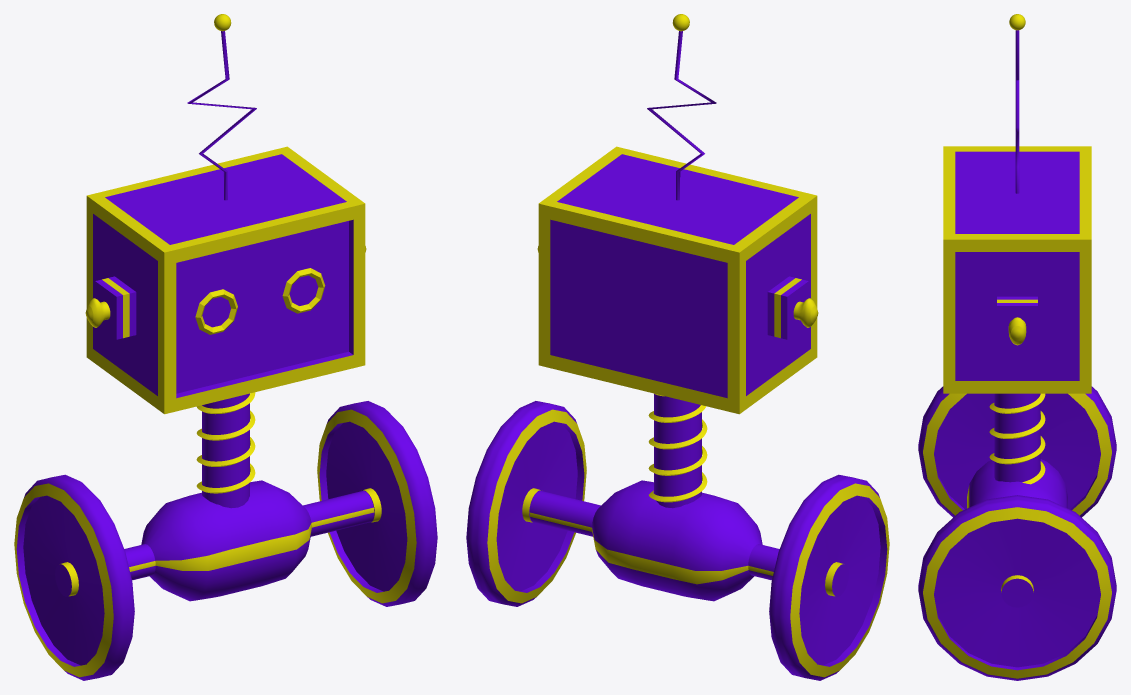
Rendered from Robby.fbx.
The picture shows the model from 3 angles, left to right: view 1: azimuth 30°, elevation 25°; view 2: azimuth 150°, elevation 25°; view 3: azimuth 270°, elevation 25°; orthographic projection. The views are drawn at different scales.
Visible parts, largest first — view 1: pCube1, pCylinder9, pCylinder6, pCylinder8, pCylinder5, pCube3, pHelix1, pCylinder4, pTorus3, pTorus2; view 2: pCube1, pCylinder9, pCylinder6, pCylinder8, pCylinder5, pCube3, pHelix1, pCylinder4; view 3: pCube1, pCylinder8, pCylinder9, pCylinder5, pCylinder6, pCube4, pHelix1, pCylinder4, pCylinder2.
Part boxes in pixels (<box>): pCube1: <box>86,146,365,414</box>; pCylinder9: <box>14,474,134,680</box>; pCylinder6: <box>124,480,374,601</box>; pCylinder8: <box>317,401,437,606</box>; pCylinder5: <box>202,393,249,508</box>; pCube3: <box>95,276,136,339</box>; pHelix1: <box>196,392,255,493</box>; pCylinder4: <box>187,31,256,200</box>; pTorus3: <box>282,268,325,313</box>; pTorus2: <box>195,289,237,334</box>; pCube1: <box>538,146,817,414</box>; pCylinder9: <box>769,474,889,680</box>; pCylinder6: <box>529,480,779,601</box>; pCylinder8: <box>466,401,586,606</box>; pCylinder5: <box>654,394,701,508</box>; pCube3: <box>767,276,808,339</box>; pHelix1: <box>648,393,707,502</box>; pCylinder4: <box>647,31,716,200</box>; pCube1: <box>943,146,1091,393</box>; pCylinder8: <box>918,495,1116,680</box>; pCylinder9: <box>918,386,1116,517</box>; pCylinder5: <box>994,393,1040,482</box>; pCylinder6: <box>967,459,1067,508</box>; pCube4: <box>997,296,1037,346</box>; pHelix1: <box>989,393,1045,484</box>; pCylinder4: <box>1015,30,1019,193</box>; pCylinder2: <box>1008,317,1026,345</box>.
Bounding box in the file's own units: 2.45 × 4.4 × 1.34.
